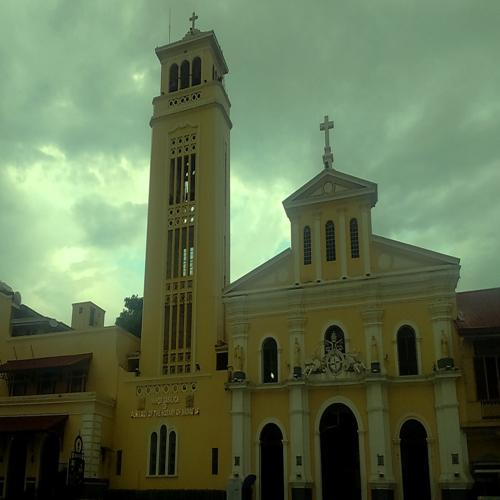Manaoag Church: (130, 8, 468, 499)
